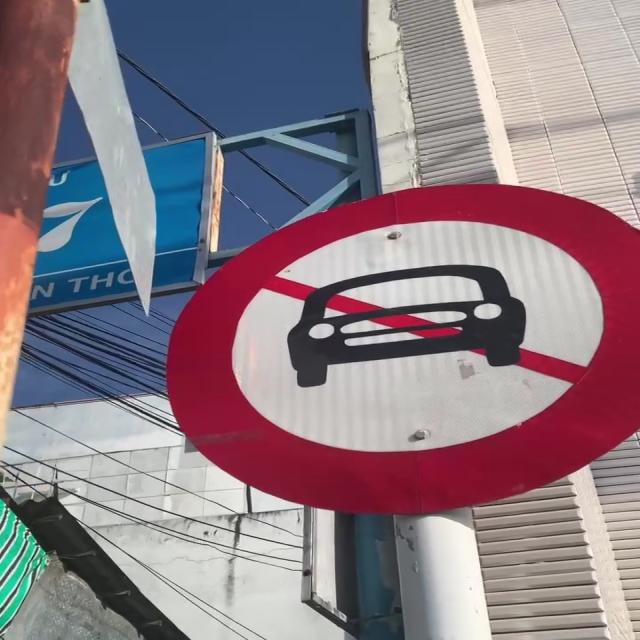Cam_O_To: (164, 180, 640, 514)
